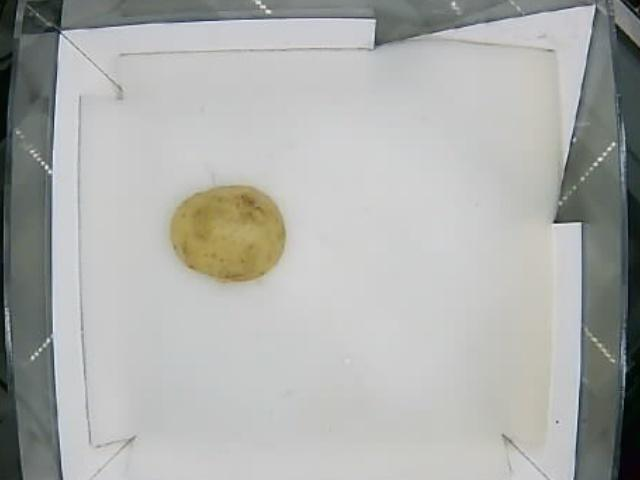Potato: (166, 184, 285, 281)
